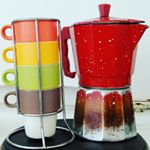cups: (2, 87, 64, 139)
